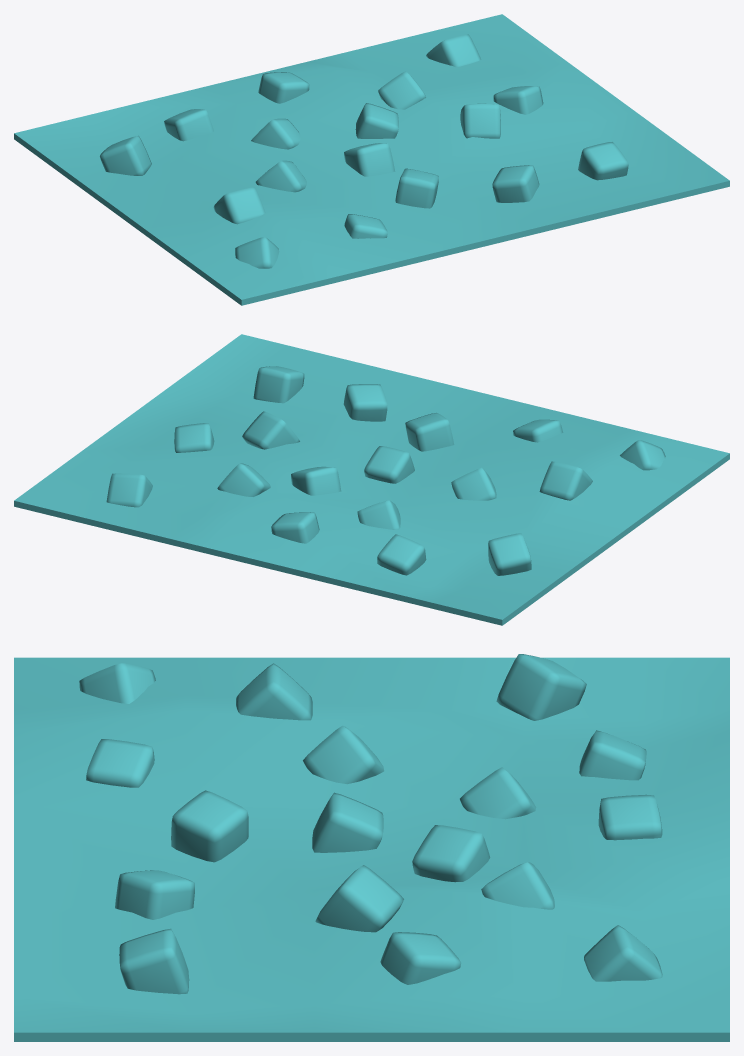
The model's file is MOD_BAR IceSheet.fbx.
3 views of the same model, one above another, from view 1: azimuth 30°, elevation 25°; view 2: azimuth 150°, elevation 25°; view 3: azimuth 270°, elevation 25° (orthographic). The views are drawn at different scales.
Visible parts, largest first — view 1: pCube67, pCube73, pCube76, pCube71, pCube78, pCube80, pCube69, pCube77, pCube85, pCube75, pCube82, pCube72 (+6 smaller); view 2: pCube67, pCube71, pCube73, pCube76, pCube78, pCube77, pCube69, pCube70, pCube80, pCube82, pCube85, pCube75 (+6 smaller); view 3: pCube67, pCube78, pCube73, pCube80, pCube71, pCube85, pCube69, pCube76, pCube81, pCube82, pCube77, pCube74 (+6 smaller).
Part boxes in pixels (x1=…): pCube67: x1=14, y1=14, x2=729, y2=305; pCube73: x1=100, y1=135, x2=151, y2=175; pCube76: x1=492, y1=165, x2=539, y2=202; pCube71: x1=578, y1=142, x2=628, y2=180; pCube78: x1=395, y1=168, x2=438, y2=208; pCube80: x1=460, y1=103, x2=500, y2=138; pCube69: x1=344, y1=143, x2=395, y2=176; pCube77: x1=213, y1=187, x2=265, y2=224; pCube85: x1=355, y1=103, x2=398, y2=138; pCube75: x1=258, y1=72, x2=309, y2=103; pCube82: x1=426, y1=34, x2=481, y2=66; pCube72: x1=378, y1=71, x2=425, y2=109; pCube67: x1=14, y1=334, x2=729, y2=625; pCube71: x1=253, y1=366, x2=304, y2=403; pCube73: x1=488, y1=533, x2=531, y2=575; pCube76: x1=343, y1=384, x2=387, y2=421; pCube78: x1=405, y1=413, x2=454, y2=451; pCube77: x1=539, y1=461, x2=592, y2=500; pCube69: x1=364, y1=446, x2=414, y2=483; pCube70: x1=377, y1=534, x2=426, y2=575; pCube80: x1=242, y1=411, x2=299, y2=449; pCube82: x1=106, y1=473, x2=152, y2=507; pCube85: x1=291, y1=466, x2=341, y2=495; pCube75: x1=271, y1=512, x2=319, y2=543; pCube67: x1=14, y1=657, x2=729, y2=1041; pCube78: x1=171, y1=790, x2=248, y2=862; pCube73: x1=496, y1=654, x2=586, y2=720; pCube80: x1=315, y1=865, x2=403, y2=932; pCube71: x1=119, y1=928, x2=189, y2=994; pCube85: x1=412, y1=825, x2=490, y2=882; pCube69: x1=312, y1=792, x2=383, y2=852; pCube76: x1=115, y1=870, x2=194, y2=919; pCube81: x1=380, y1=932, x2=461, y2=984; pCube82: x1=584, y1=925, x2=662, y2=981; pCube77: x1=236, y1=663, x2=312, y2=720; pCube74: x1=303, y1=725, x2=384, y2=784.
Size of the model in its own units: 42.9 by 5.22 by 34.62.
